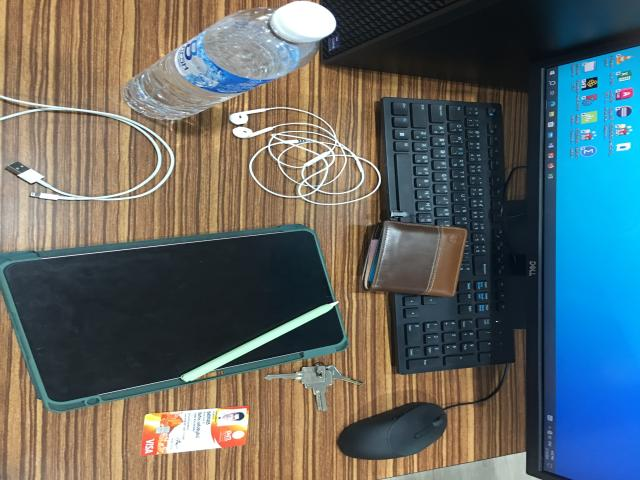Keys: (226, 356, 357, 413)
Mouse: (336, 403, 448, 462)
Wallet: (363, 221, 469, 298)
bottle: (124, 1, 333, 122)
wire: (228, 107, 382, 205), (4, 119, 175, 203)
